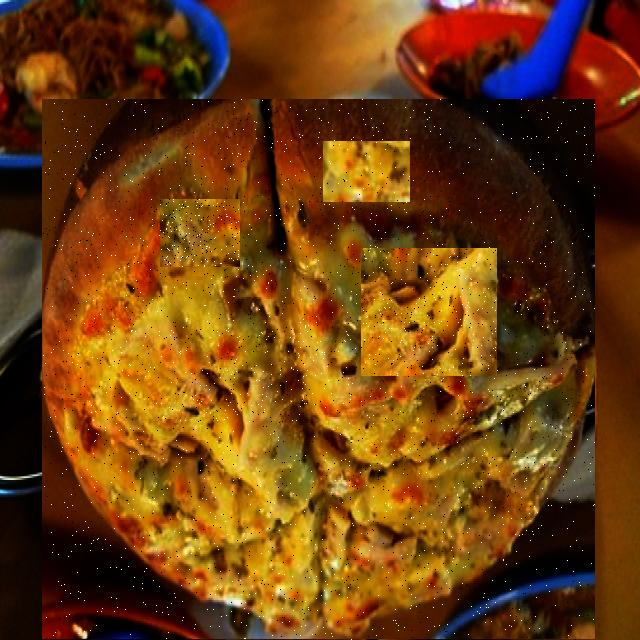Cheese: (361, 248, 497, 376), (171, 321, 313, 430), (160, 199, 240, 267), (323, 141, 410, 202)
Pizza: (43, 99, 595, 640)
